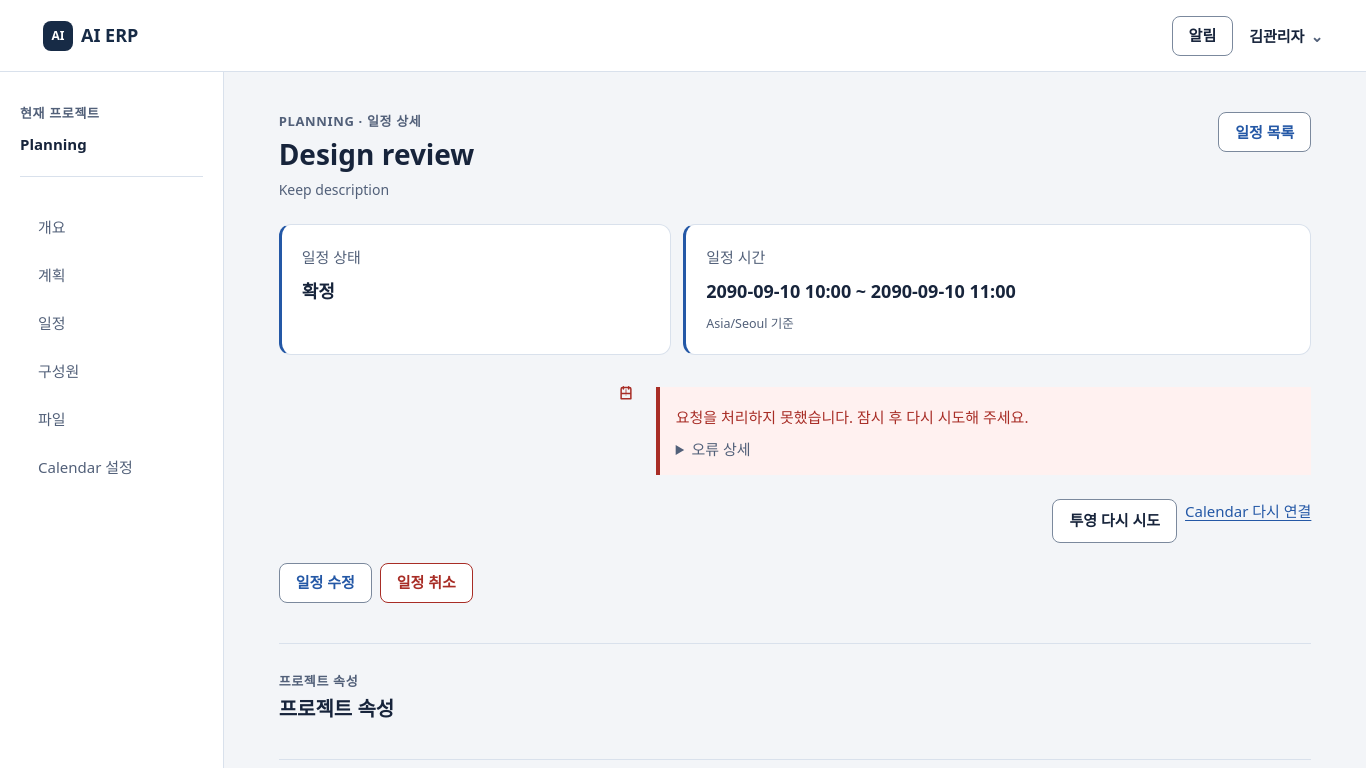
P05 projection error does not suppress known reauthorization status or reconnect navigation
Expected: the button named "Calendar: 오류 확인 필요" is shown, [604,371,648,415]
Expected: the button "투영 다시 시도" is enabled, [1052,499,1177,543]
What coordinates should you click on to do the following:
click the link "Calendar 다시 연결"
I would click on:
 (1248, 511)
Its box is [1185,501,1311,521].
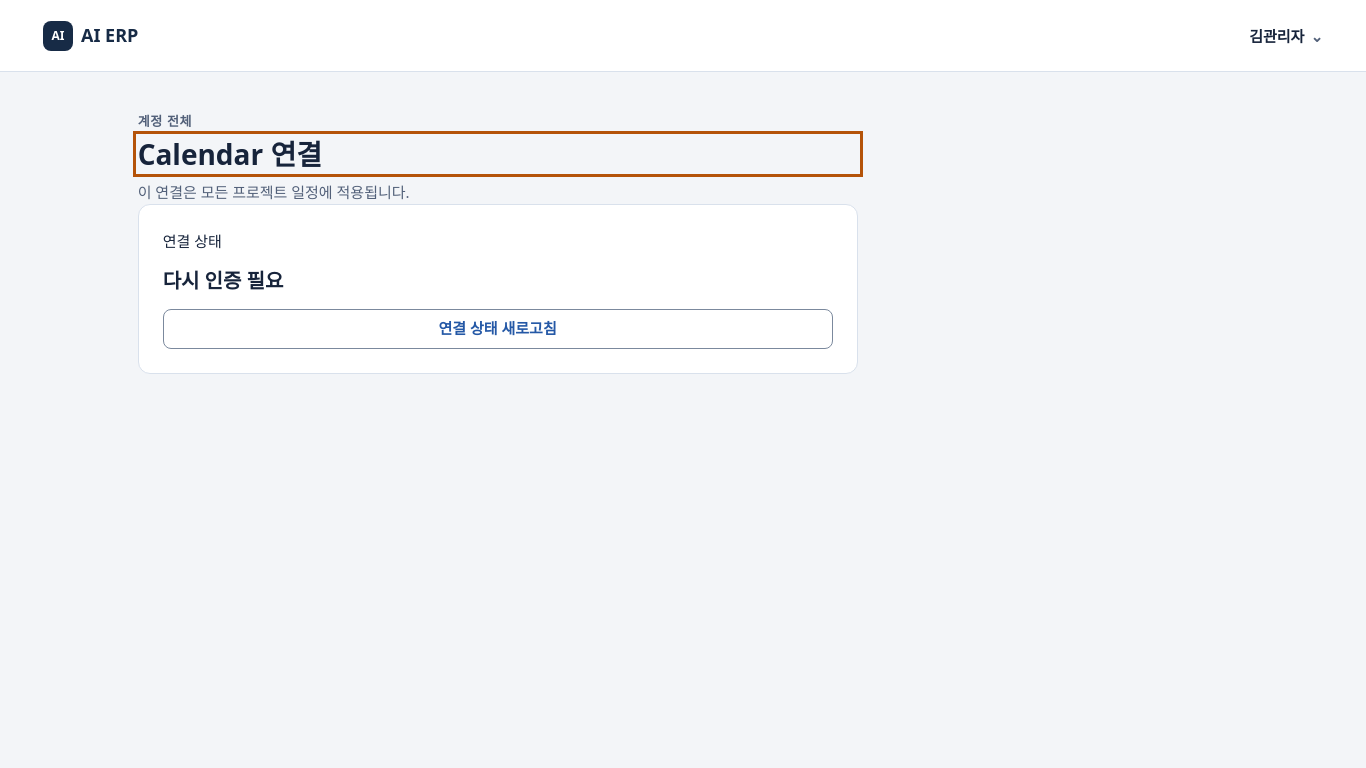
Expected: the heading "Calendar 연결" is shown, [138,134,322,172]
Expected: the text "다시 인증 필요" is shown, [163,267,283,294]
